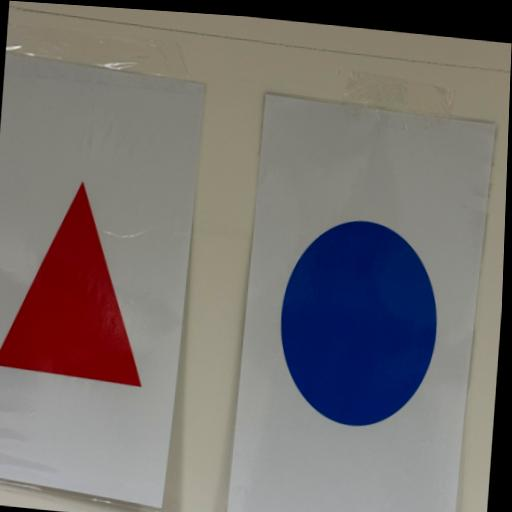blue_circle: (273, 211, 443, 432)
red_triangle: (0, 181, 142, 388)
